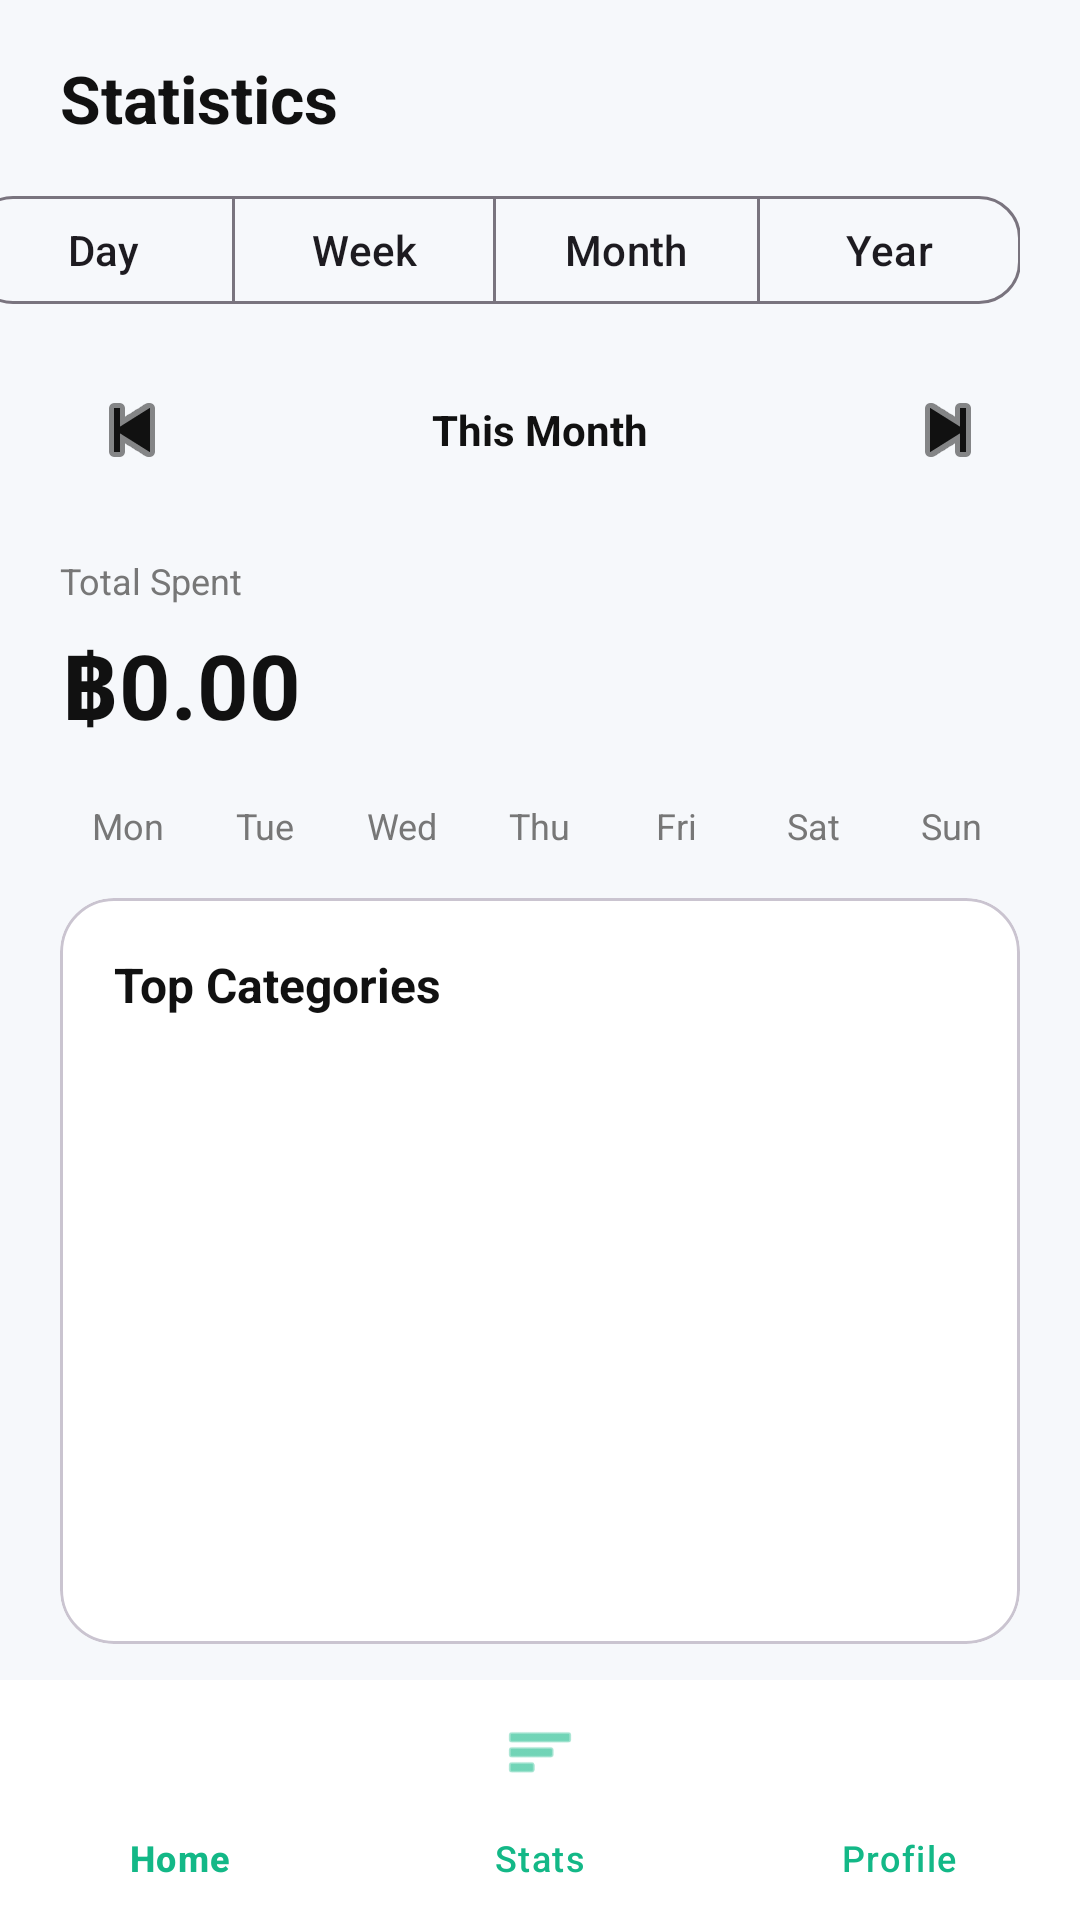

Icon bounding boxes for this 1080 × 1920 phone screenshot, format box(x1, y1, x2, y2):
Next: box(925, 403, 971, 457)
Previous: box(109, 403, 155, 457)
